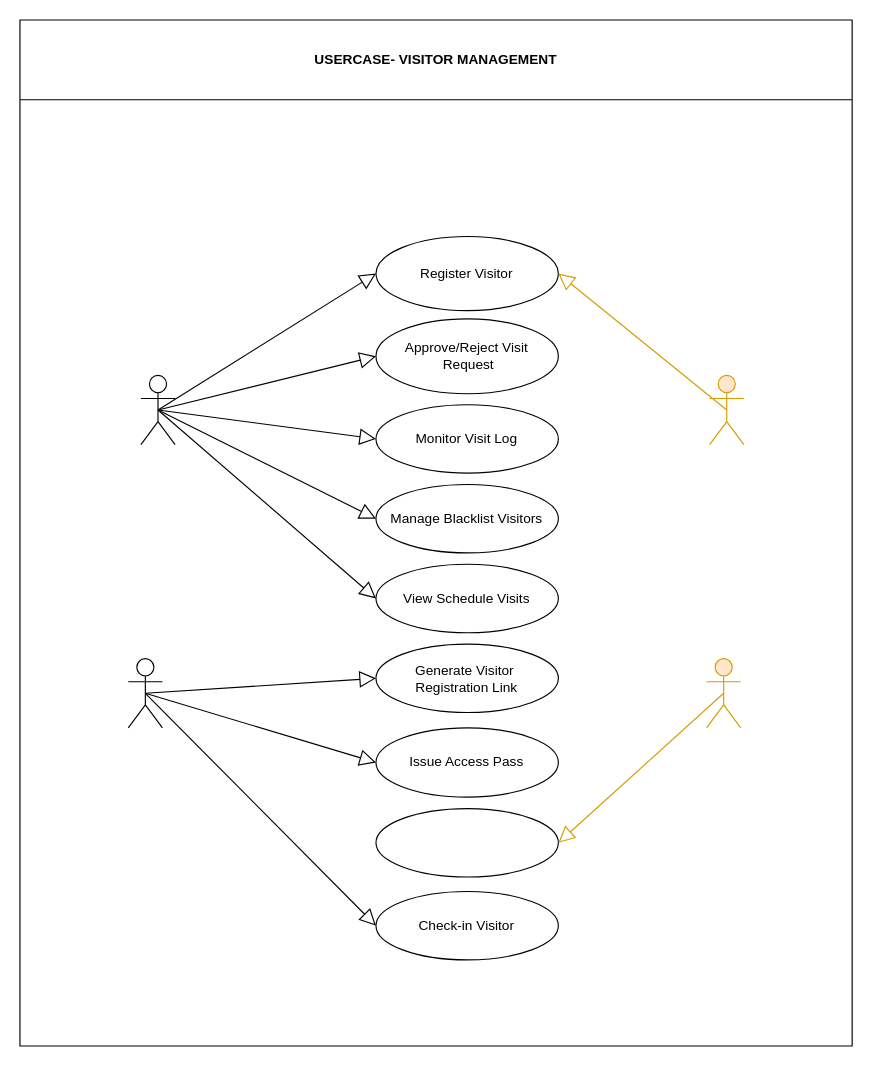
Image size: 872x1066. Some labels were removed from this diagram. Here are the shapes that lost their labels. From the top down, the centre of each, then its label:
At [157,409]: "Visitor Management Administrator/Front Desk Admin".
At [726,409]: "Requestor".
At [144,693]: "System".
At [723,693]: "Other Visitor".
At [466,842]: "Self-Register as Visitor".
